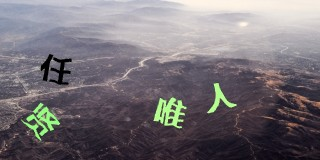人: (207, 83, 237, 114)
任: (40, 54, 72, 85)
唯: (153, 96, 187, 129)
贤: (20, 102, 60, 140)
